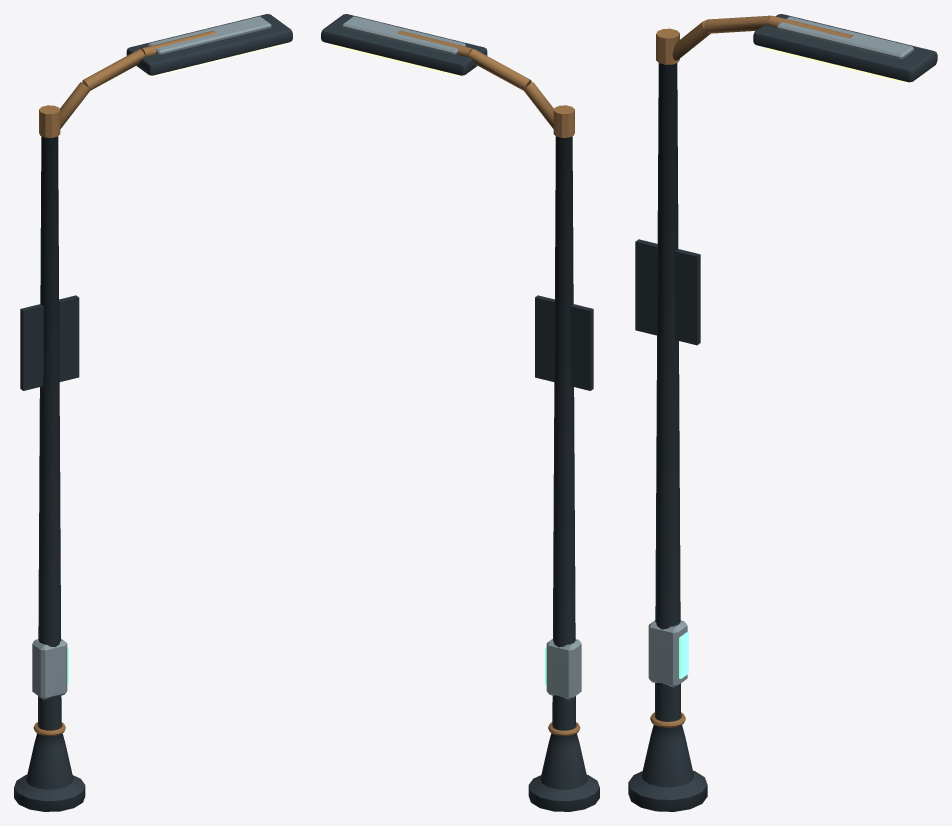
File: street-lamp.lod0.glb
3 renders of one model, left to right at view 1: azimuth 30°, elevation 25°; view 2: azimuth 150°, elevation 25°; view 3: azimuth 330°, elevation 25°, orthographic. The views are drawn at different scales.
Parts seen in each view (by area): view 1: structure; view 2: structure; view 3: structure.
Part boxes in pixels (x1=…): structure: x1=14, y1=14, x2=292, y2=811; structure: x1=321, y1=14, x2=599, y2=811; structure: x1=628, y1=14, x2=937, y2=811.
Size of the model in its own units: 2.55 by 6.71 by 0.5849.
